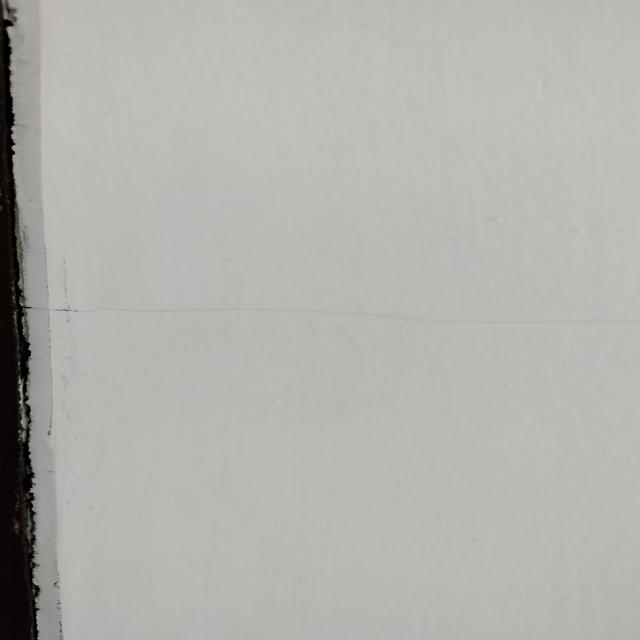Crack: (30, 296, 640, 331)
